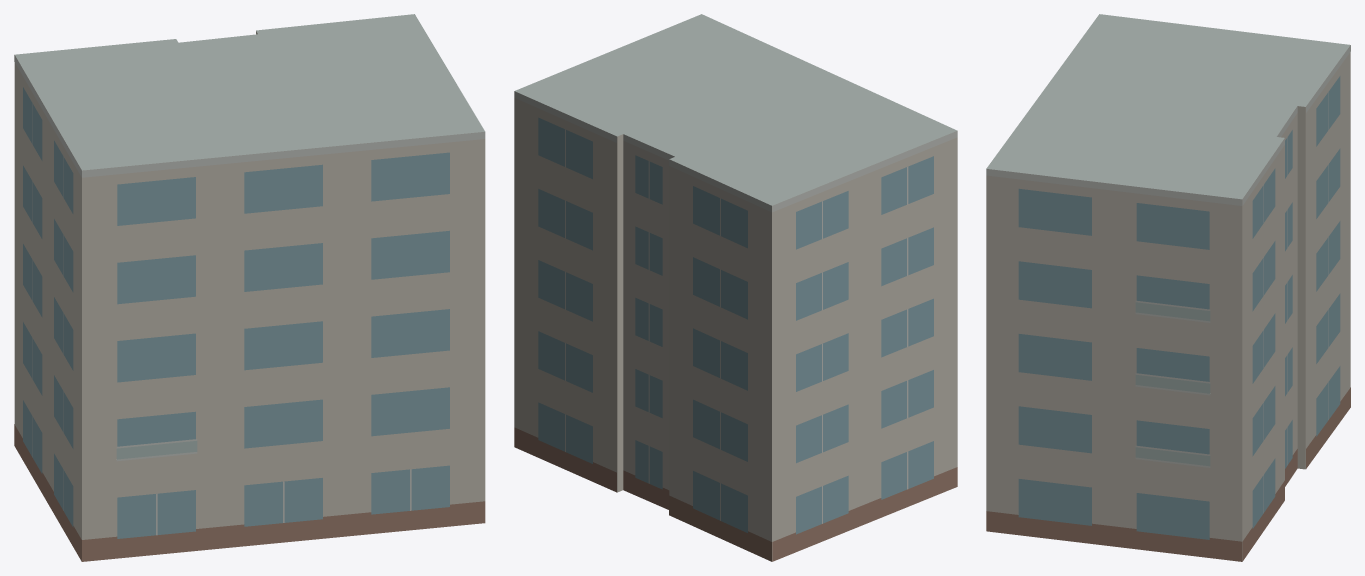
File: survey-upis-32874822.glb
The picture shows the model from 3 angles, left to right: view 1: azimuth 30°, elevation 25°; view 2: azimuth 150°, elevation 25°; view 3: azimuth 270°, elevation 25°; orthographic projection. The views are drawn at different scales.
Parts seen in each view (by area): view 1: survey-upis-32874822.tmp; view 2: survey-upis-32874822.tmp; view 3: survey-upis-32874822.tmp.
Boxes of the visible parts, left/top/right/bottom form: survey-upis-32874822.tmp: left=14, top=14, right=485, bottom=561; survey-upis-32874822.tmp: left=514, top=14, right=957, bottom=561; survey-upis-32874822.tmp: left=986, top=14, right=1350, bottom=561.
Bounding box in the file's own units: 14.48 × 13.2 × 12.04.
